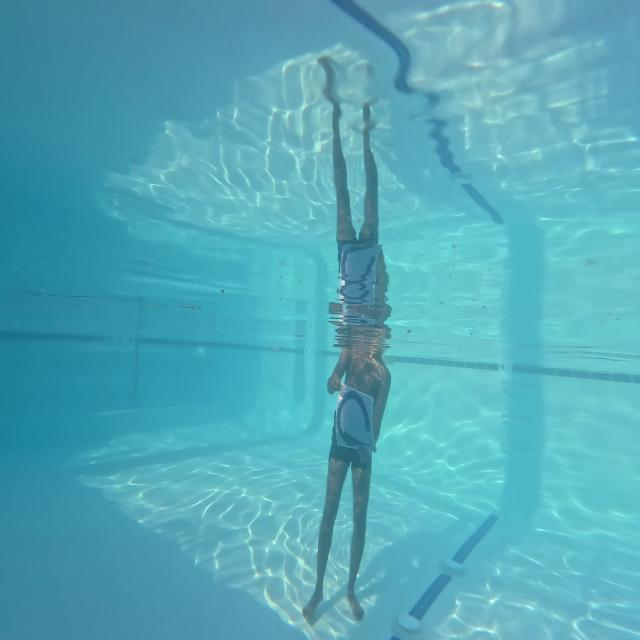blue_side: (335, 386, 376, 453)
